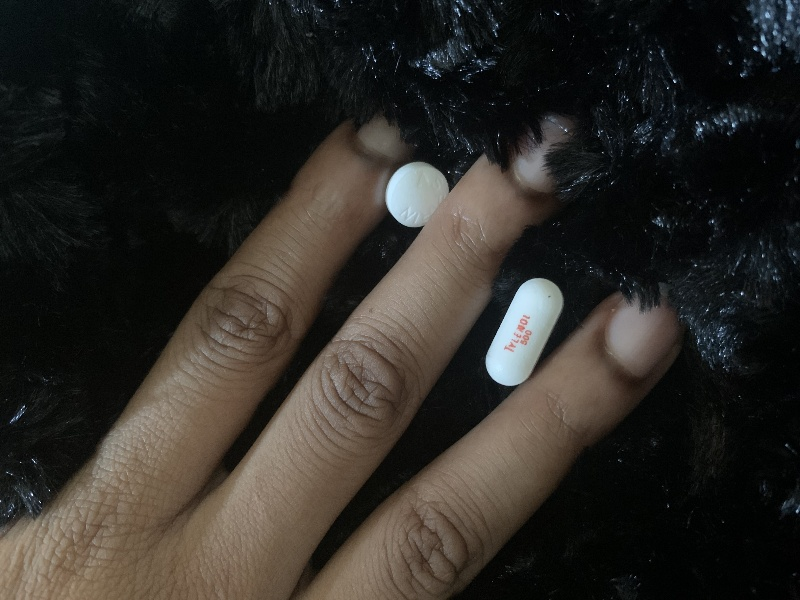Aspirin: (380, 154, 456, 233)
Tylenol: (482, 274, 566, 386)
